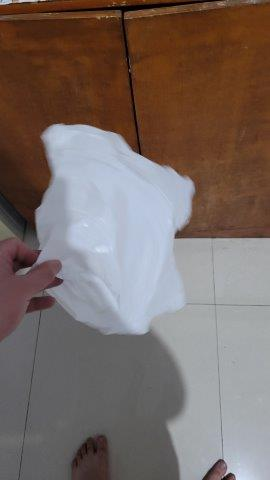plastik: (34, 121, 195, 341)
